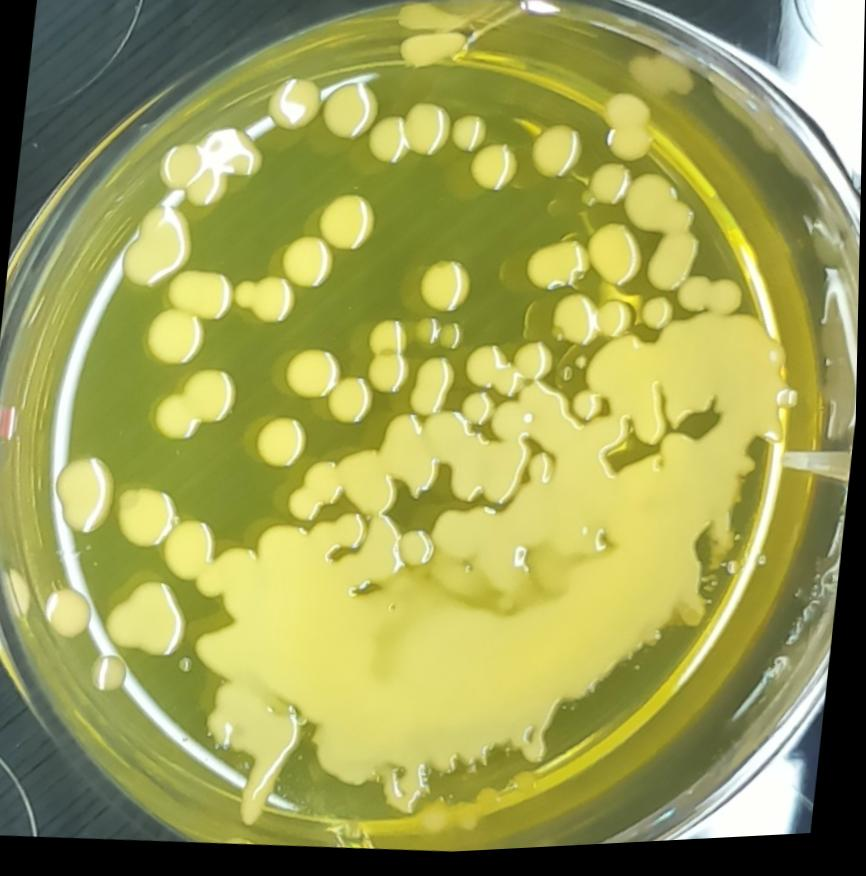staphylo-: (141, 364, 248, 455), (100, 581, 193, 665), (45, 451, 124, 543), (363, 98, 453, 176), (116, 480, 185, 555), (583, 223, 649, 298), (360, 318, 417, 403), (314, 192, 384, 260), (522, 242, 598, 303), (316, 81, 381, 151), (226, 273, 298, 336), (162, 264, 234, 327), (139, 309, 207, 373), (281, 347, 347, 410), (262, 74, 324, 140), (273, 236, 339, 296), (528, 123, 587, 188), (671, 279, 750, 327), (251, 416, 313, 477), (164, 520, 220, 587), (417, 259, 475, 320), (407, 360, 460, 425), (464, 144, 523, 202), (44, 584, 98, 643), (325, 380, 377, 433), (586, 165, 635, 217), (447, 117, 491, 159), (457, 393, 500, 435), (637, 300, 680, 342)
